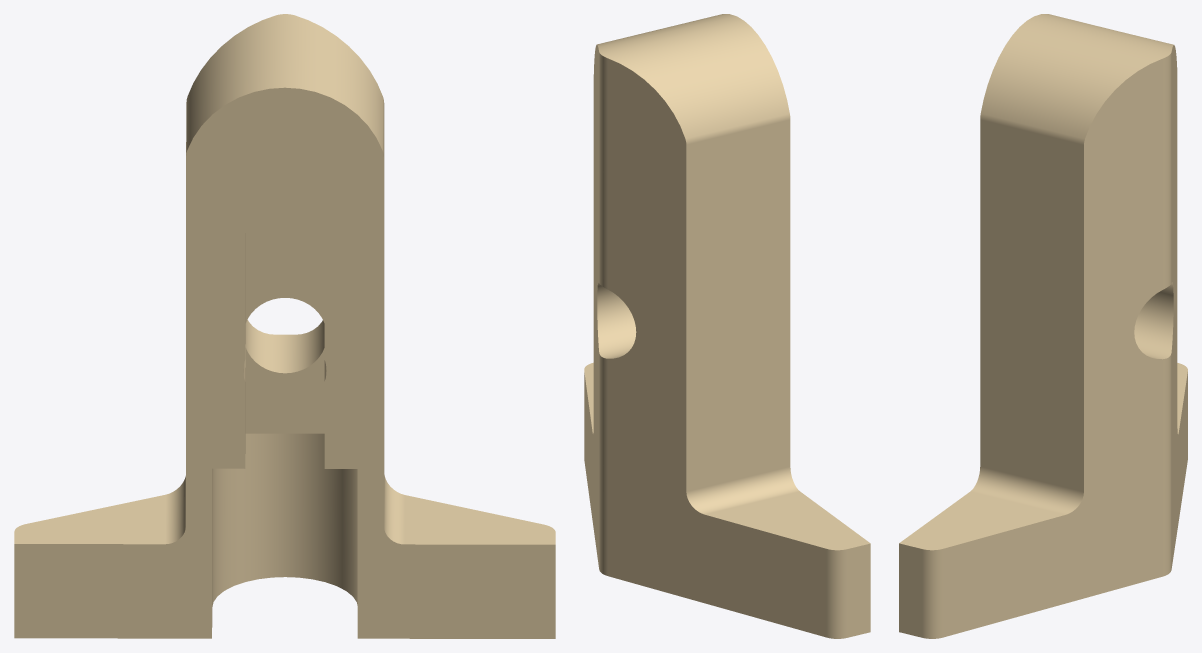
The model's file is Body7.dae.
3 views of the same model, side by side, from view 1: azimuth 30°, elevation 25°; view 2: azimuth 150°, elevation 25°; view 3: azimuth 270°, elevation 25° (orthographic). The views are drawn at different scales.
Visible parts, largest first — view 1: Body7; view 2: Body7; view 3: Body7.
Part boxes in pixels (x1,y1,x2,y2): Body7: (14,14,555,638); Body7: (584,14,870,638); Body7: (899,14,1187,638).
Bounding box in the file's own units: 2.33 × 1.48 × 2.92.
